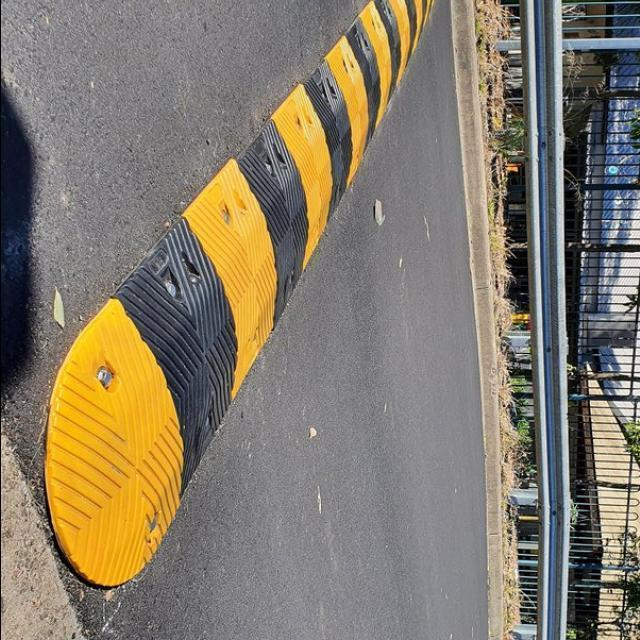speedbreaker: (46, 0, 450, 584)
